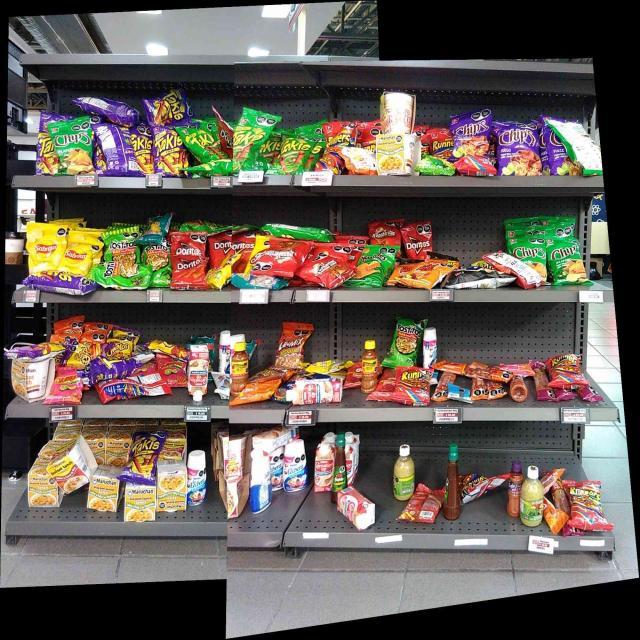bitzEnchilado95: (458, 363, 508, 380), (544, 498, 566, 535), (474, 382, 507, 401), (437, 372, 451, 400)
bitzHabanero: (536, 362, 552, 403)
botaneraChilito: (232, 342, 250, 394), (362, 340, 378, 392)
chipsFuego: (497, 125, 542, 175), (452, 114, 491, 155)
chipsJalapeno: (55, 123, 93, 173), (549, 238, 586, 285), (524, 237, 546, 268)
churrumais: (54, 367, 80, 405), (160, 355, 186, 378)
delPrimoSalsa: (522, 465, 543, 527), (393, 444, 410, 500)
doritosNacho: (171, 254, 209, 289), (403, 225, 433, 257)
hotNutsOriginal: (409, 258, 444, 288)
leoMix: (280, 321, 306, 368)
maruchanPollo: (379, 134, 419, 176), (157, 460, 186, 511), (12, 362, 47, 398), (89, 471, 118, 511), (126, 484, 155, 523), (28, 464, 49, 506)
maruchanRes: (50, 449, 87, 489)
nestleCarnation: (340, 488, 376, 529), (288, 379, 344, 405), (190, 345, 208, 401), (315, 442, 332, 493)
nestleLechera: (283, 441, 308, 490), (188, 451, 207, 504), (424, 328, 438, 364)
popKarameladas: (451, 266, 490, 287)
productoAtras: (97, 121, 136, 177), (570, 122, 600, 175), (100, 379, 169, 398), (463, 473, 505, 502), (250, 457, 272, 512), (410, 485, 441, 522), (83, 95, 134, 116), (348, 147, 376, 175), (491, 254, 523, 274), (452, 385, 472, 403)
rancheritos: (260, 239, 301, 275), (306, 255, 346, 285), (369, 222, 401, 245)
rufflesQueso: (362, 245, 391, 286)
runners: (570, 480, 605, 530), (396, 366, 430, 406), (319, 131, 346, 173), (554, 355, 586, 385)
sabritasOriginal: (29, 226, 63, 268), (66, 240, 93, 274)
salsaBufalo: (444, 443, 460, 520), (334, 432, 347, 486)
semillasGirasol: (235, 277, 287, 291)
tajinDulce: (507, 460, 521, 517)
takisFuego: (127, 430, 155, 482), (157, 126, 184, 176), (149, 91, 187, 121), (30, 275, 89, 294), (36, 115, 54, 176), (137, 122, 155, 176)
takisOriginal: (235, 111, 268, 172), (275, 134, 311, 174), (186, 127, 220, 159), (195, 161, 232, 175)
tostitos: (391, 317, 421, 365), (95, 262, 146, 288), (147, 245, 171, 286), (105, 232, 139, 260)
